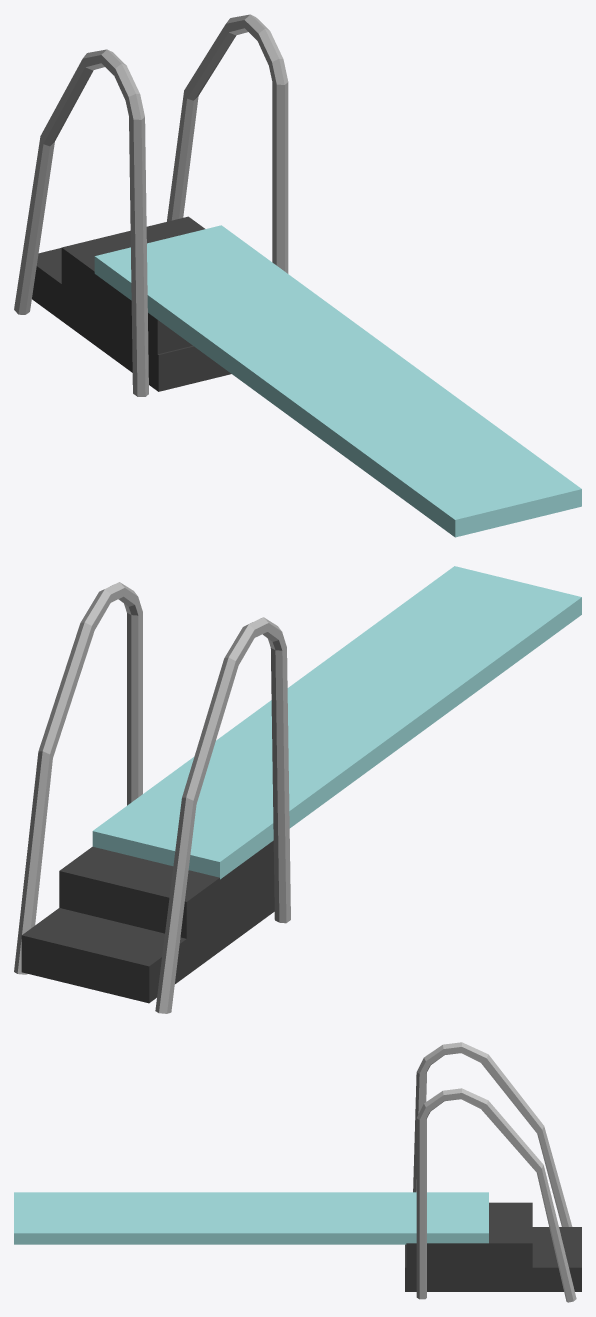
Rendered from DivingBoard.fbx.
The picture shows the model from 3 angles, top to bottom: view 1: azimuth 30°, elevation 25°; view 2: azimuth 150°, elevation 25°; view 3: azimuth 270°, elevation 25°; orthographic projection. The views are drawn at different scales.
Parts seen in each view (by area): view 1: Cube.009; view 2: Cube.009; view 3: Cube.009.
Part boxes in pixels (x1,y1,x2,y2): Cube.009: (14, 14, 581, 537); Cube.009: (14, 566, 581, 1013); Cube.009: (14, 1042, 581, 1302).
Bounding box in the file's own units: 220 × 443 × 1062.
